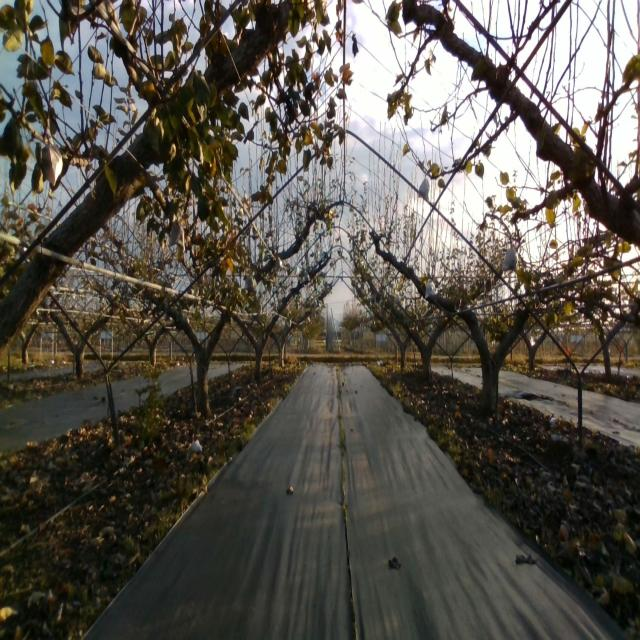pearbags: (42, 131, 64, 189), (168, 216, 186, 256), (501, 242, 517, 274), (417, 172, 431, 204), (424, 278, 438, 299), (244, 273, 256, 293)
